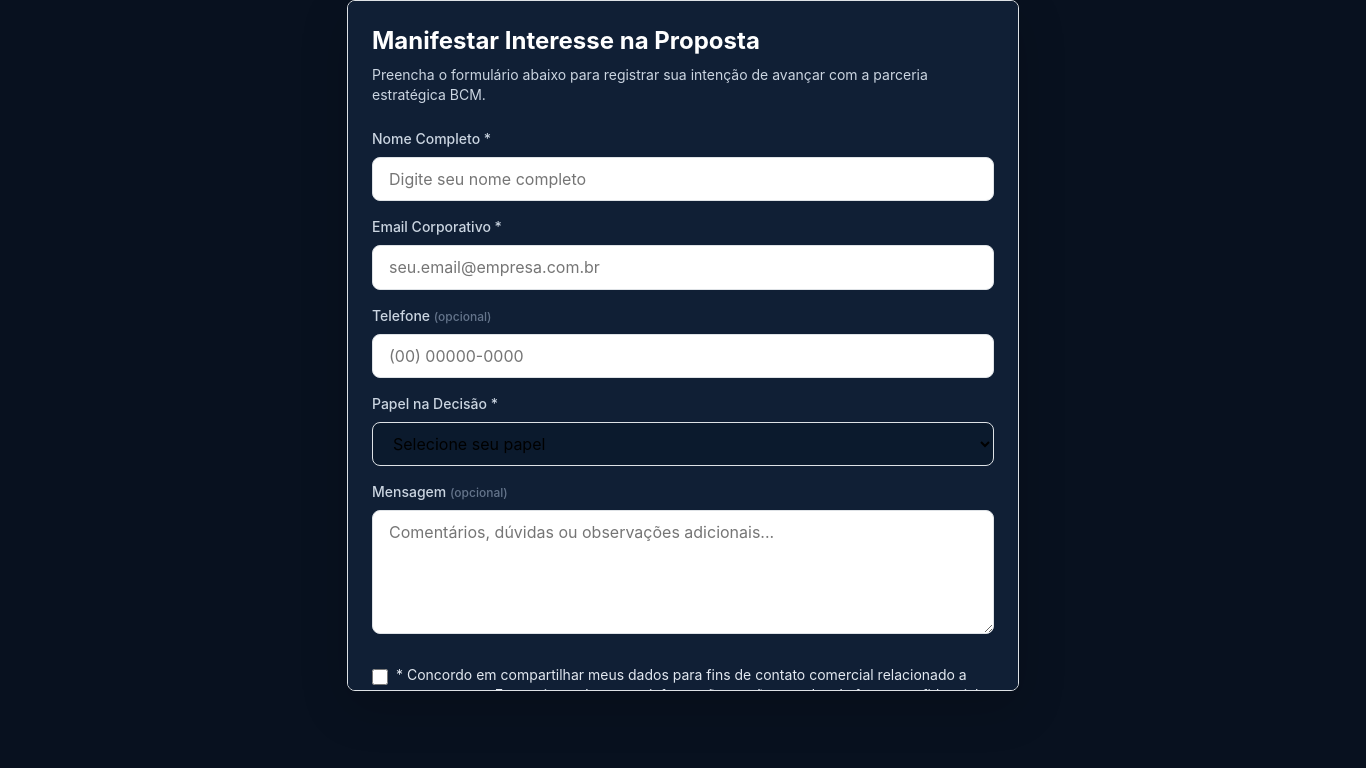
IntentForm › Validation › should show error when role is not selected
Click the dropdown labelled "Papel na Decisão *". click: point(683, 444)
box: x1=372 y1=422 x2=994 y2=466
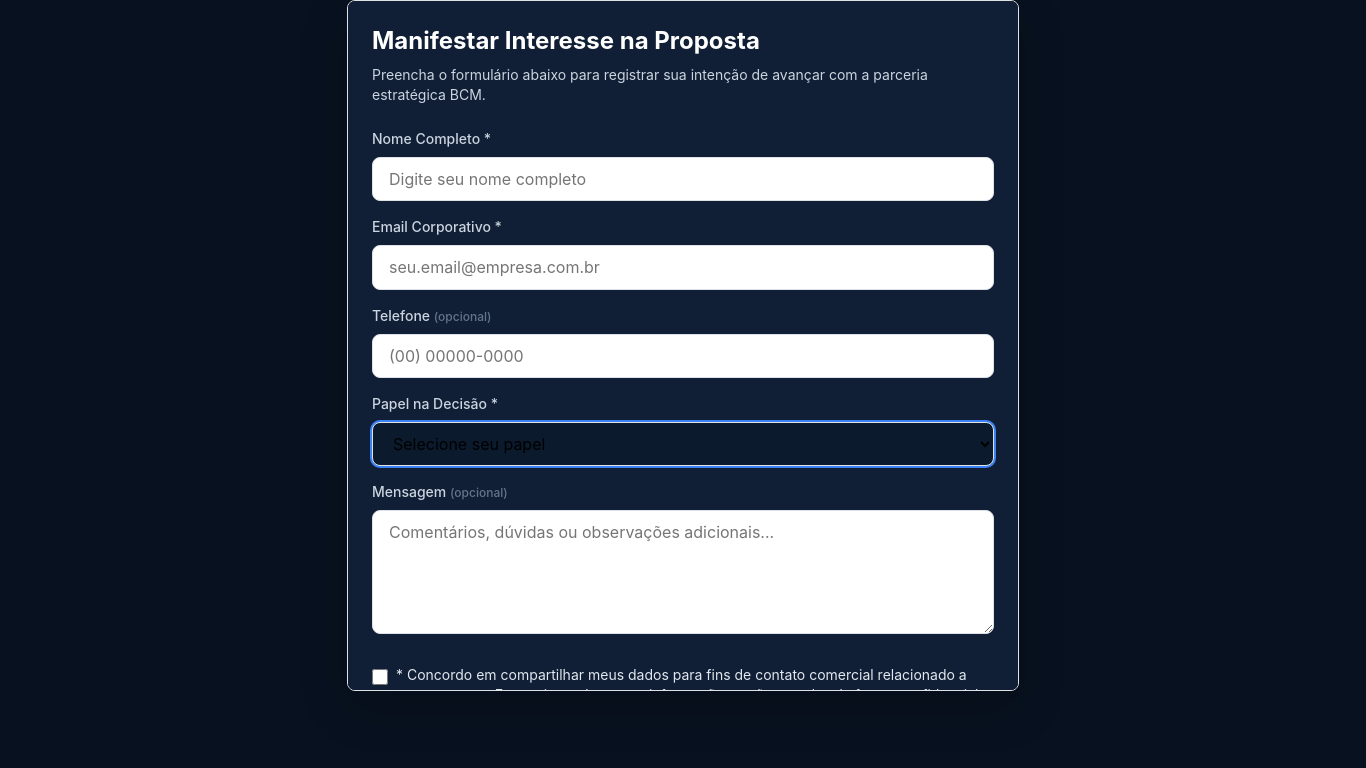
Click the element that starts with "Manifestar Interesse na Proposta". click: point(683, 384)
box: x1=0 y1=0 x2=1365 y2=767
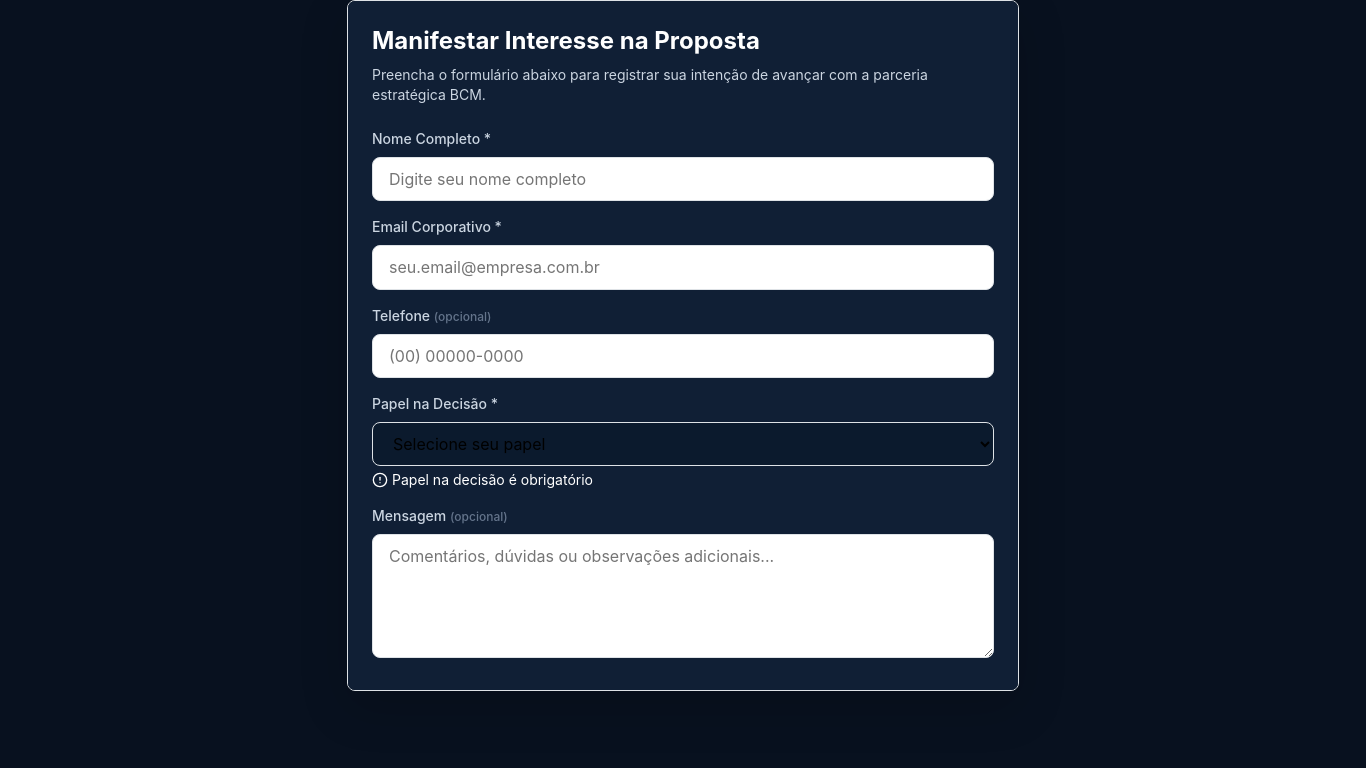
Check: the text "Papel na decisão é obrigatório" is shown, box x1=372 y1=471 x2=593 y2=488
